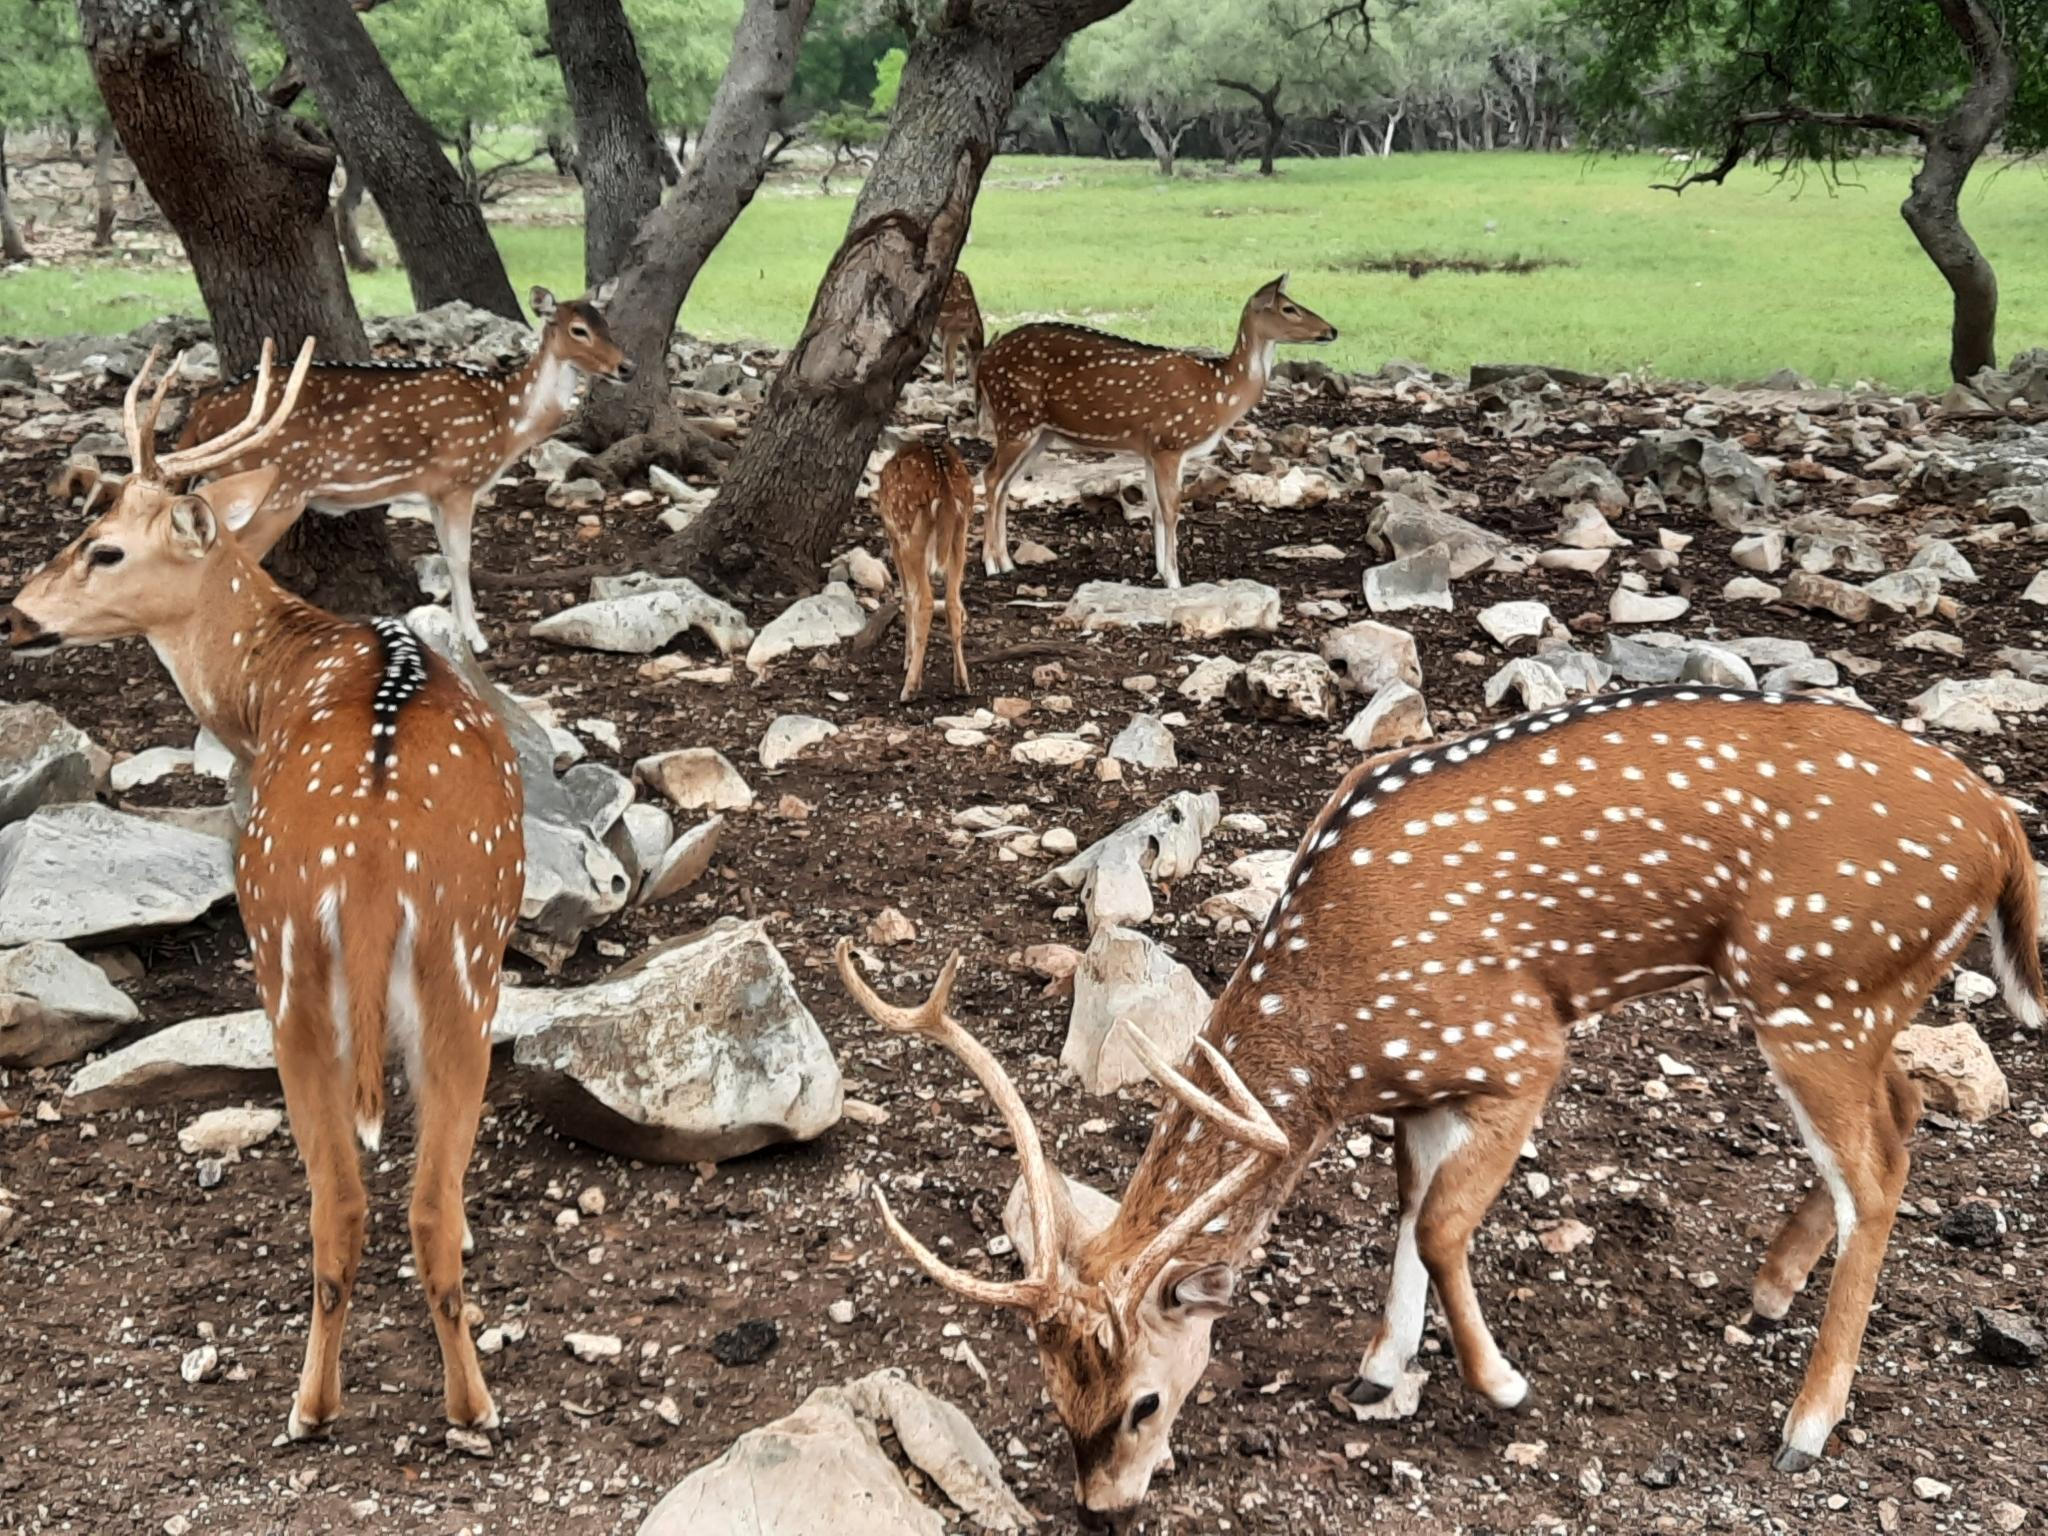Deer: (835, 686, 2046, 1512), (6, 345, 526, 1438), (123, 278, 639, 653)
